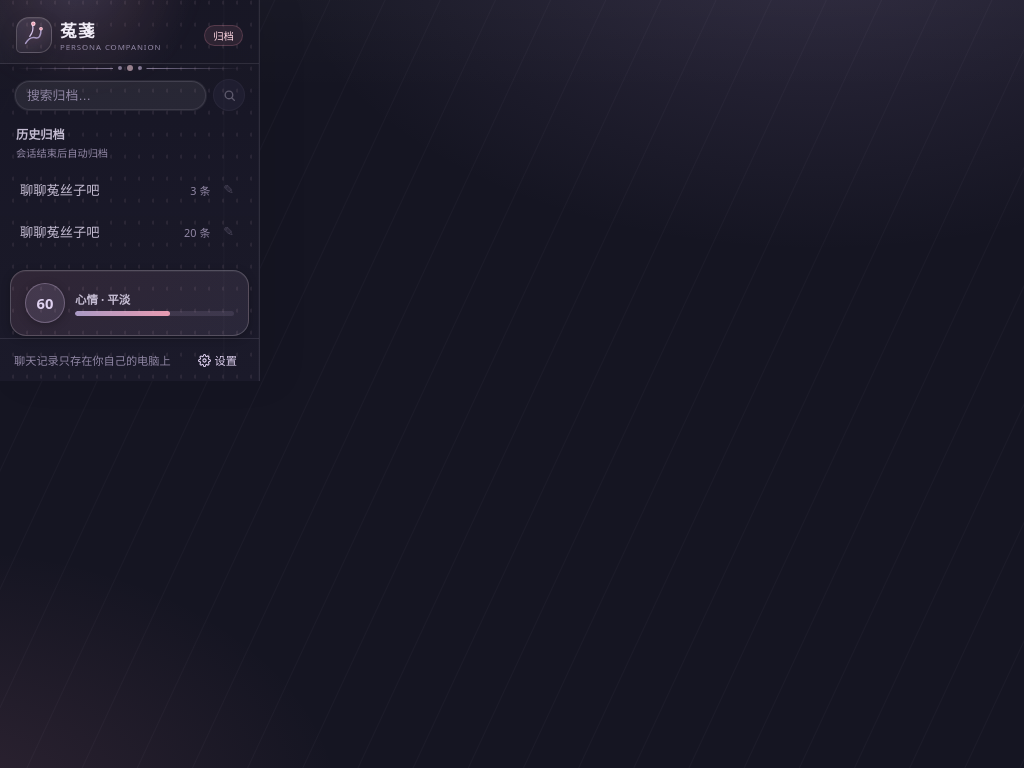
Test case: SessionList 归档重命名（NP-03） › 同名归档可重命名：入口→编辑→Enter 保存→列表即时更新
Expected: the number of elements with class "sitem" is 2, [20,180,239,199]; [20,222,239,241]
Expected: the element with class "sitem" shows "聊聊菟丝子吧", [20,181,100,199]
Click the button named "重命名归档" at {"x": 229, "y": 190}, box [218,180,239,199]
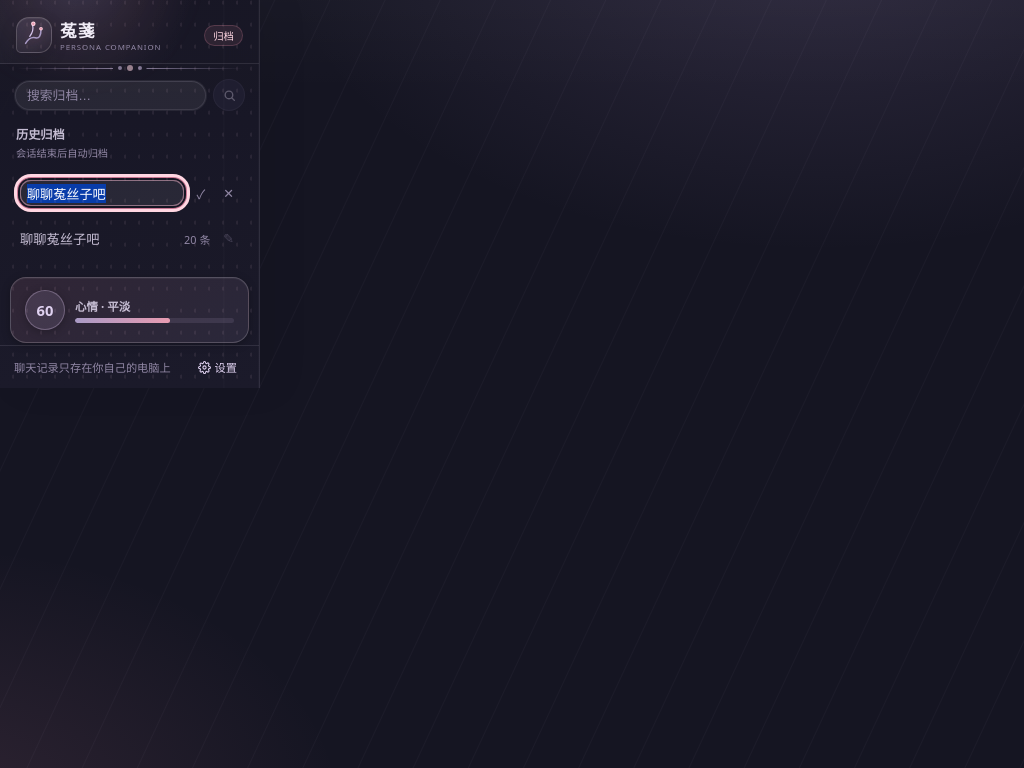
Expected: the field with class "rename-input" holds "聊聊菟丝子吧"
Replace the text in the field with class "rename-input" with "我们的第一次长聊" at {"x": 102, "y": 193}, box [20,180,184,206]
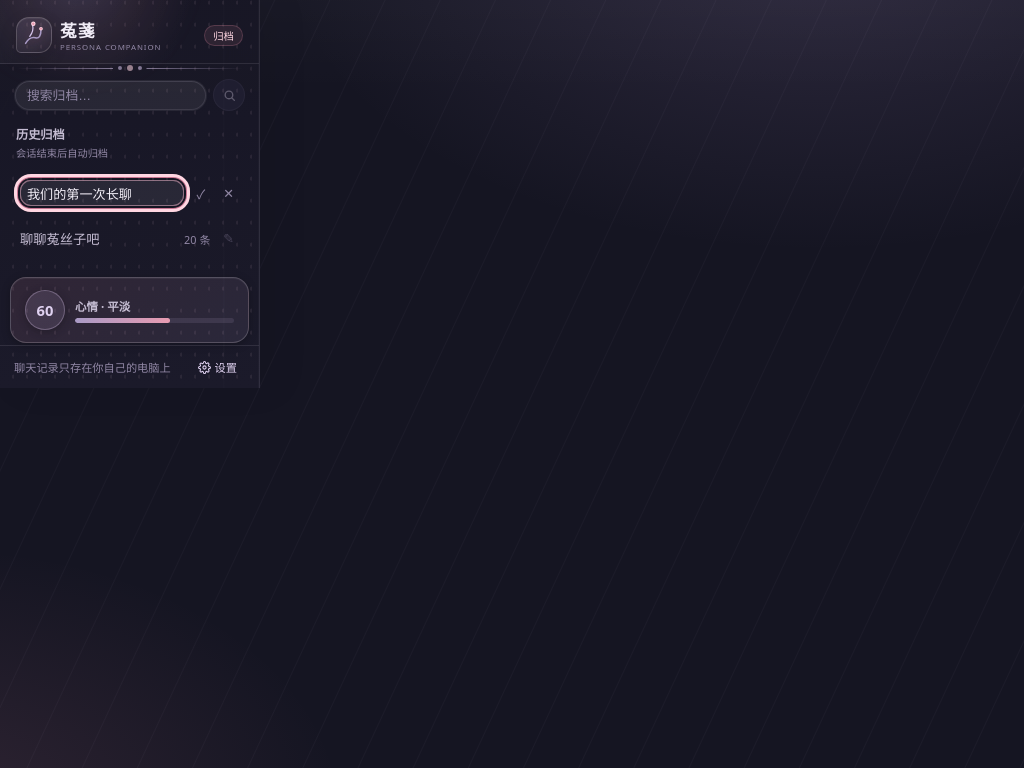
Press Enter in the field with class "rename-input", box [20,180,184,206]
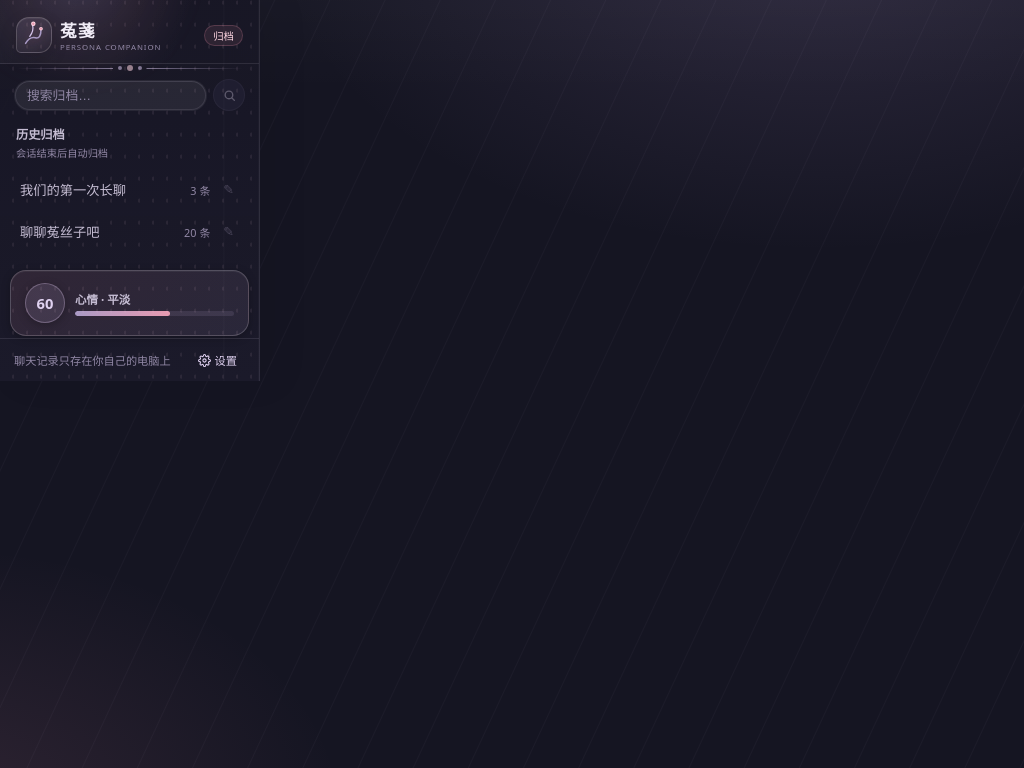
Expected: the element with class "sitem" shows "我们的第一次长聊", [20,181,126,199]
